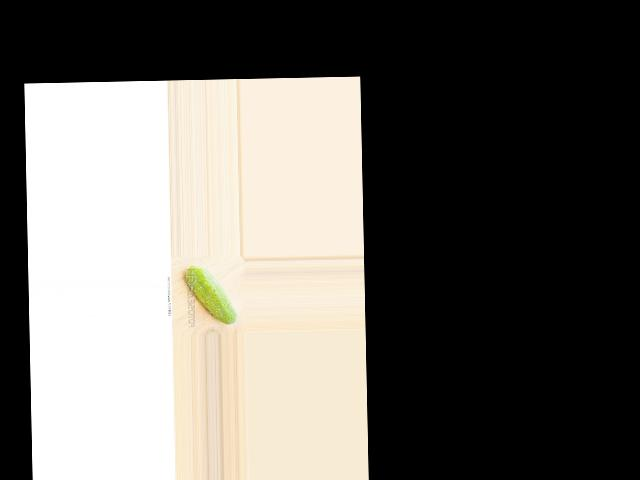cucumber: (184, 263, 237, 325)
